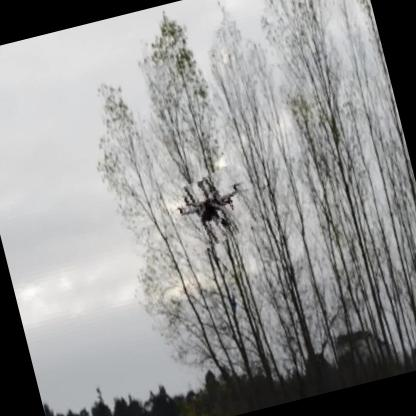drone: (166, 165, 261, 255)
